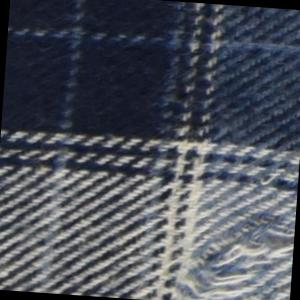Damage: (170, 200, 297, 300)
